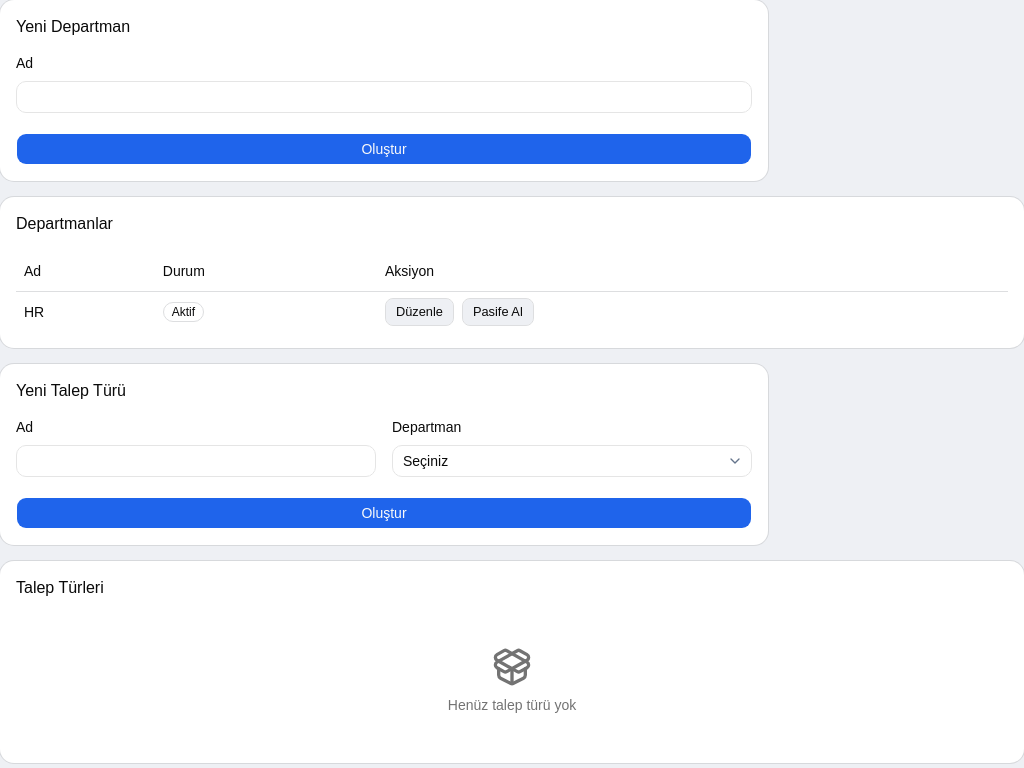
Test case: AdminCatalog page › creates a department via the form and shows it in the table after refetch
Expected: the cell "HR" is shown, left=16, top=291, right=155, bottom=332
Type "Legal" into the field labelled "Ad" below "Yeni Departman". click: (384, 97)
box: left=16, top=81, right=752, bottom=113
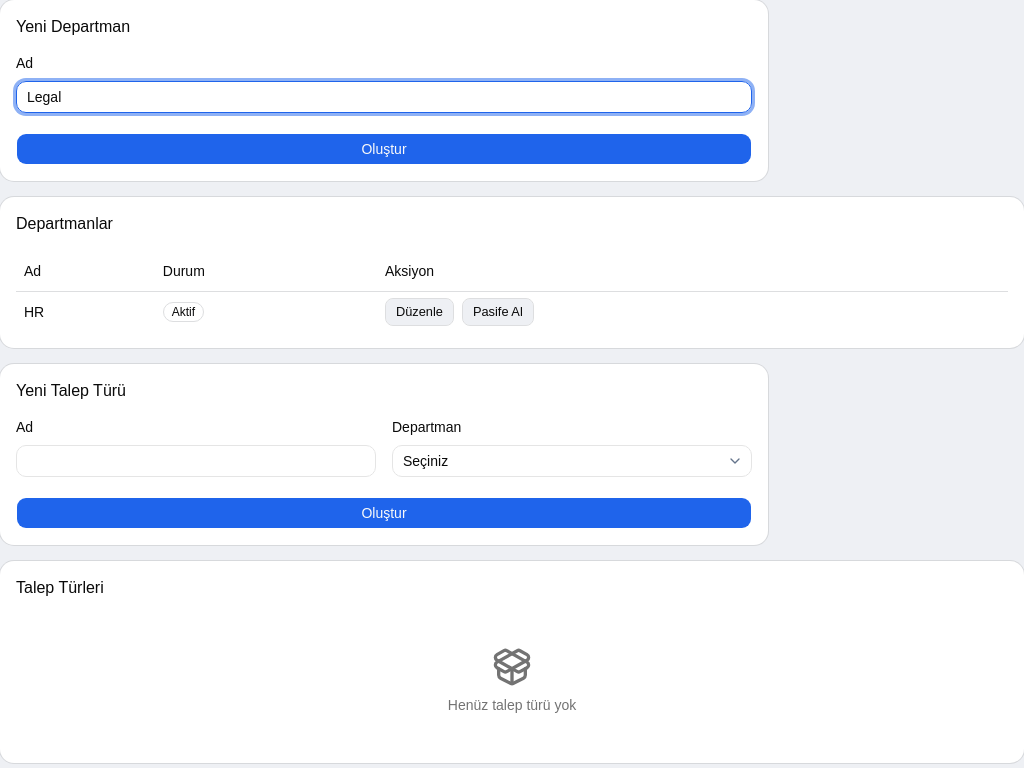
Click the button "Oluştur" below "Yeni Departman". click: (384, 149)
box: left=16, top=133, right=752, bottom=165
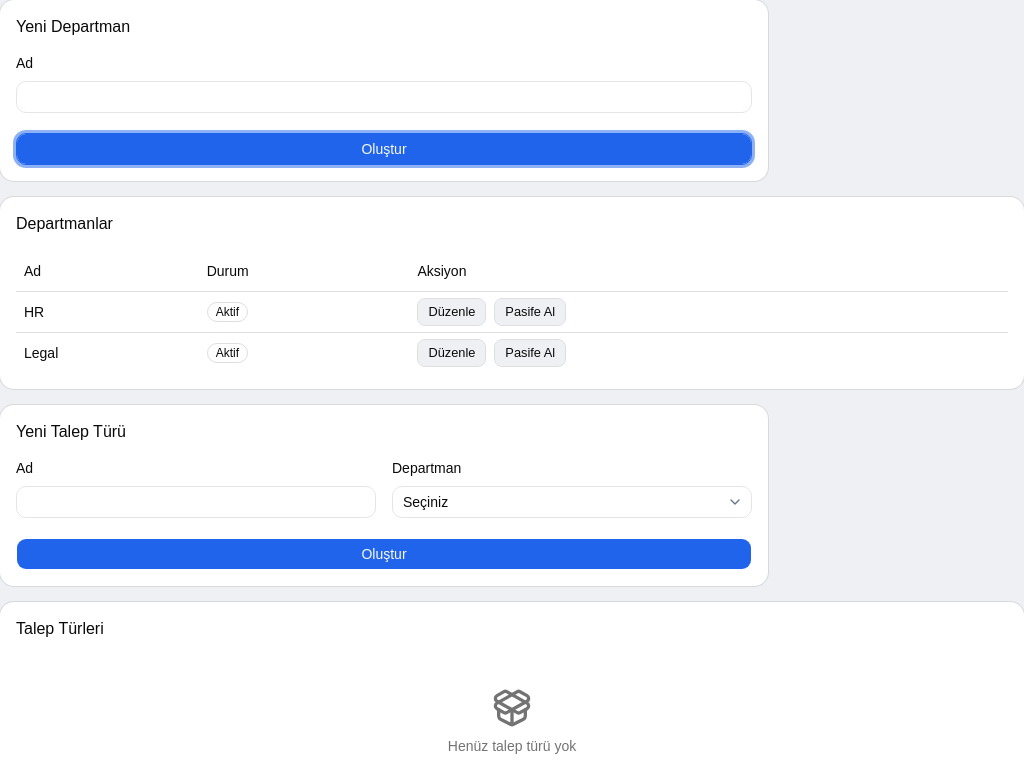
Now the cell "Legal" is shown, box left=16, top=332, right=199, bottom=373
Now the field labelled "Ad" below "Yeni Departman" is empty, box left=16, top=81, right=752, bottom=113
